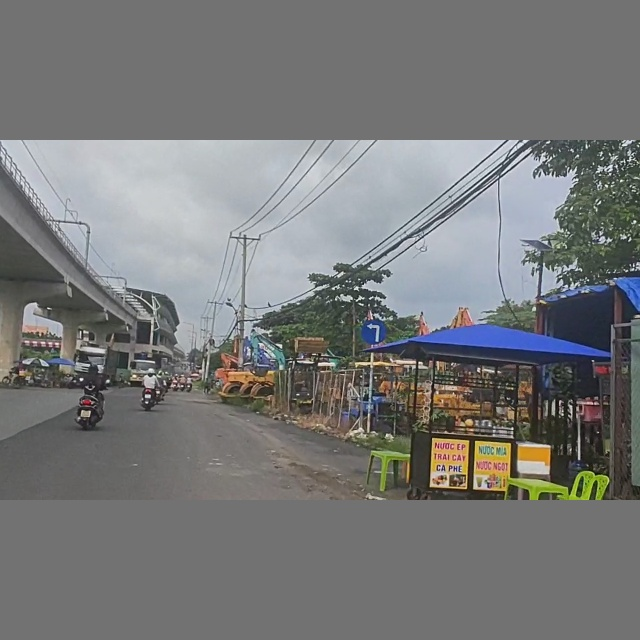R.301e: (361, 319, 387, 346)
